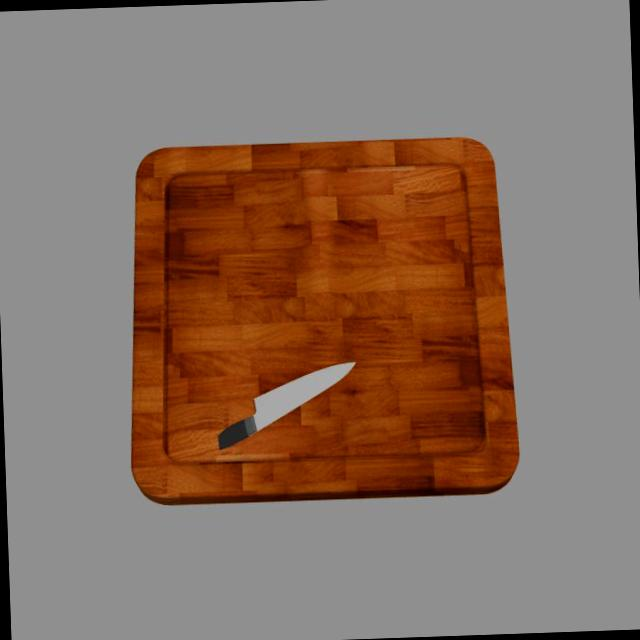knife: (172, 419, 250, 479)
